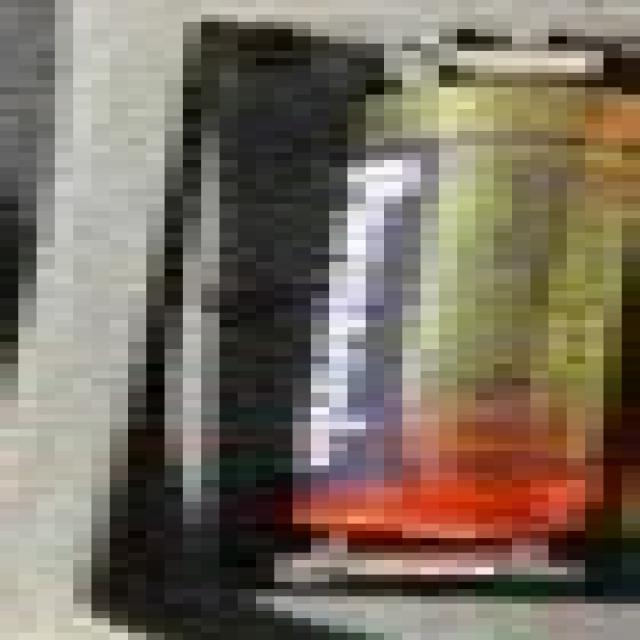battery: (64, 0, 639, 603)
